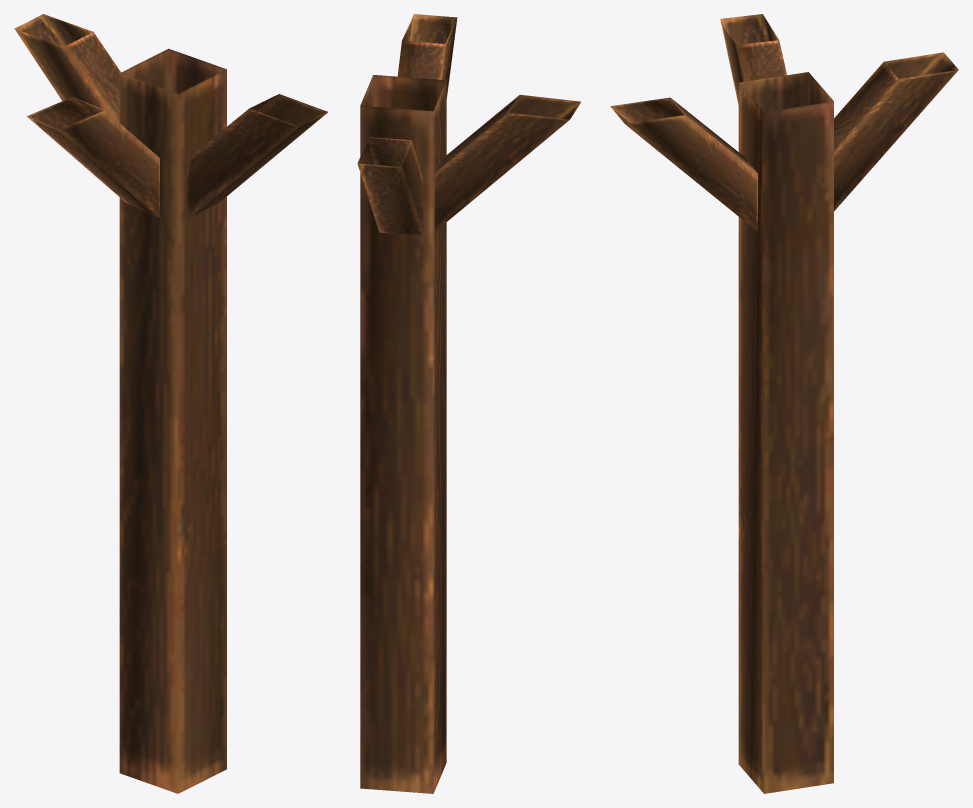
The model's file is SWORDLIGHT20_JAILPLATSUPPORT74.fbx.
3 views of the same model, side by side, from view 1: azimuth 30°, elevation 25°; view 2: azimuth 150°, elevation 25°; view 3: azimuth 270°, elevation 25° (orthographic). The views are drawn at different scales.
Parts seen in each view (by area): view 1: SWORDLIGHT20_JAILPLATSUPPORT74; view 2: SWORDLIGHT20_JAILPLATSUPPORT74; view 3: SWORDLIGHT20_JAILPLATSUPPORT74.
Boxes of the visible parts, bbox=[...] form: SWORDLIGHT20_JAILPLATSUPPORT74: bbox=[14, 14, 327, 793]; SWORDLIGHT20_JAILPLATSUPPORT74: bbox=[357, 14, 580, 793]; SWORDLIGHT20_JAILPLATSUPPORT74: bbox=[610, 14, 958, 793].
Size of the model in its own units: 13972 by 40610 by 18759.
1 material, 1 textured.
